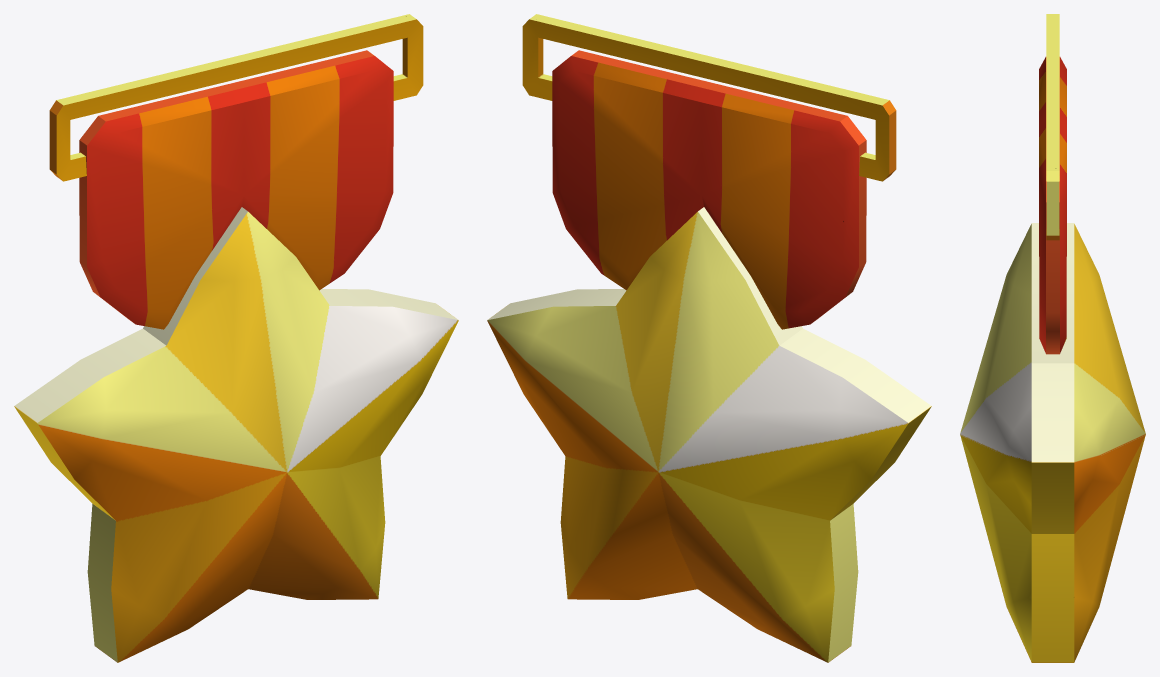
File: Medal.fbx
The picture shows the model from 3 angles, left to right: view 1: azimuth 30°, elevation 25°; view 2: azimuth 150°, elevation 25°; view 3: azimuth 270°, elevation 25°; orthographic projection. The views are drawn at different scales.
Visible parts, largest first — view 1: Medal; view 2: Medal; view 3: Medal.
Part boxes in pixels (x1,y1,x2,y2): Medal: [14, 14, 458, 662]; Medal: [487, 14, 931, 662]; Medal: [960, 14, 1145, 662].
Bounding box in the file's own units: 243 × 311 × 102.
